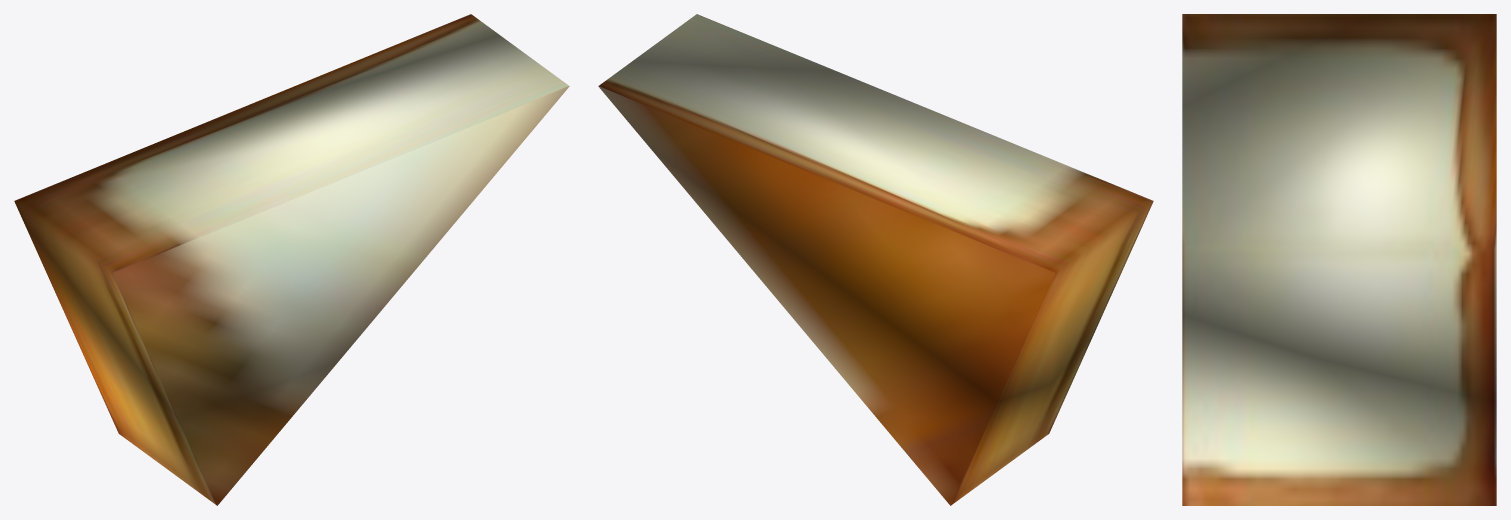
The model's file is creampie-slice.glb.
3 renders of one model, left to right at view 1: azimuth 30°, elevation 25°; view 2: azimuth 150°, elevation 25°; view 3: azimuth 270°, elevation 25°, orthographic. The views are drawn at different scales.
Visible parts, largest first — view 1: cream-pie-slice; view 2: cream-pie-slice; view 3: cream-pie-slice.
Boxes of the visible parts, x1,y1,x2,y2 form: cream-pie-slice: (14, 14, 569, 505); cream-pie-slice: (598, 14, 1153, 505); cream-pie-slice: (1182, 14, 1496, 505).
Size of the model in its own units: 1.07 by 0.7464 by 0.4001.
Materials: 1 (1 with a texture image).
